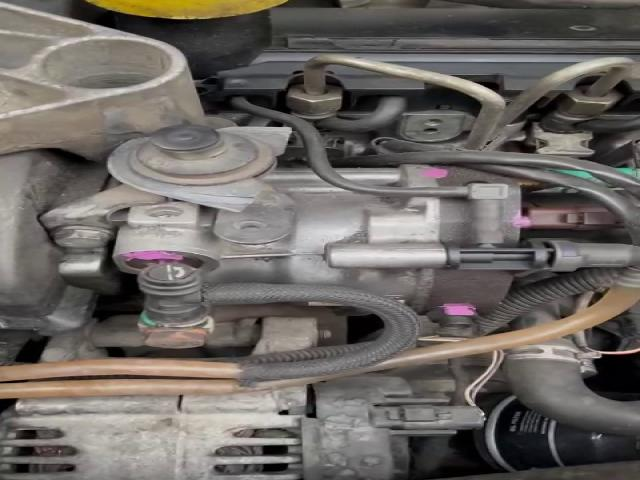alternator: (0, 369, 492, 480)
high_pressure_pump: (113, 159, 550, 327)
